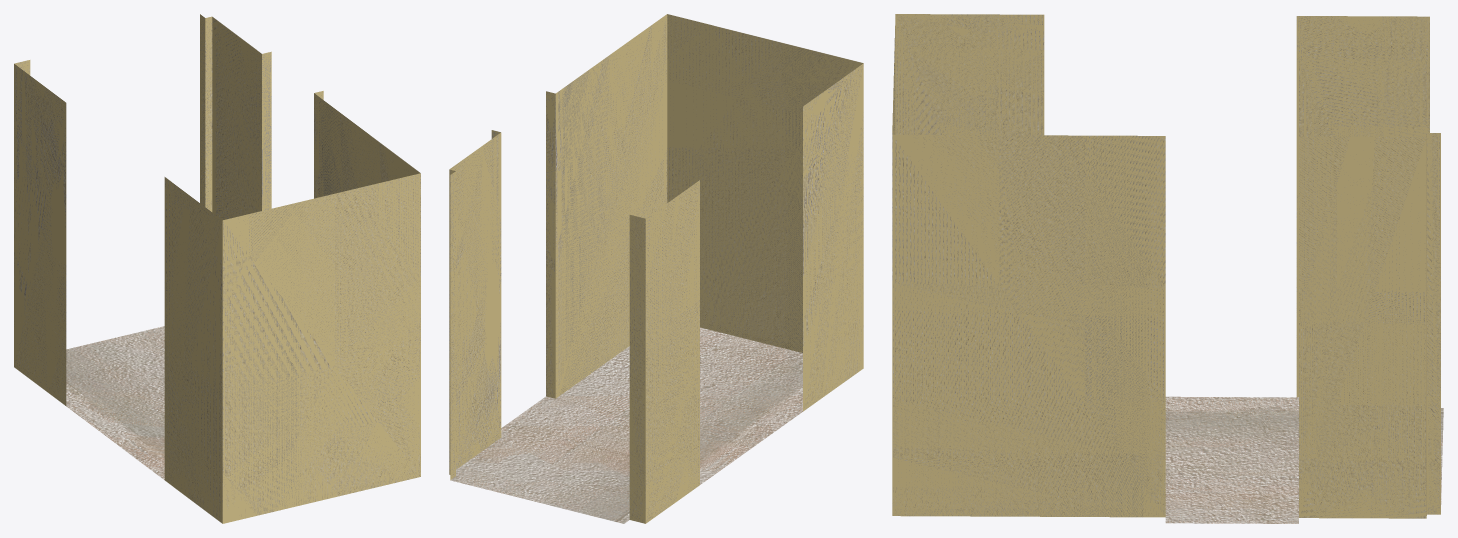
Rendered from COM017.obj.
The picture shows the model from 3 angles, left to right: view 1: azimuth 30°, elevation 25°; view 2: azimuth 150°, elevation 25°; view 3: azimuth 270°, elevation 25°; orthographic projection. The views are drawn at different scales.
Visible parts, largest first — view 1: Mesh1 COM017 Model; view 2: Mesh1 COM017 Model; view 3: Mesh1 COM017 Model.
Part boxes in pixels (bbox=[...]): Mesh1 COM017 Model: bbox=[14, 14, 420, 523]; Mesh1 COM017 Model: bbox=[449, 14, 863, 523]; Mesh1 COM017 Model: bbox=[892, 14, 1443, 523].
Size of the model in its own units: 2.17 by 3 by 3.93.
4 materials, 2 textured.
